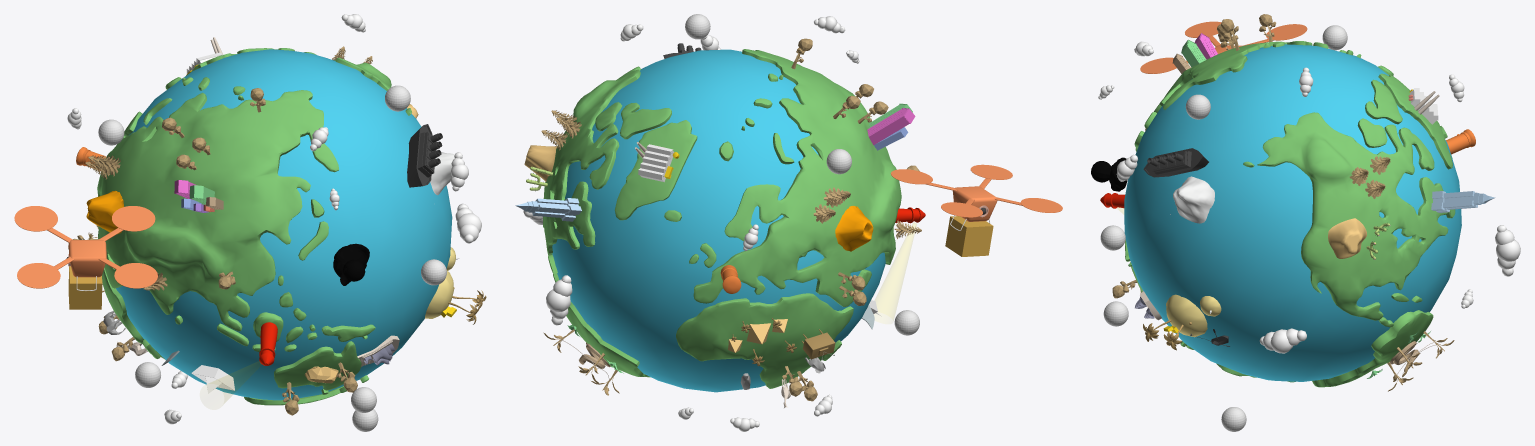
The model's file is globe-comp.gltf.
3 views of the same model, side by side, from view 1: azimuth 30°, elevation 25°; view 2: azimuth 150°, elevation 25°; view 3: azimuth 270°, elevation 25° (orthographic). The views are drawn at different scales.
Parts seen in each view (by area): view 1: world-sphere, world-continents, SHIP, Cube.001, BOX, RUBBER DUCKY, BLADE 0, BLADE 1, VOLCANO, BLADE 3, BLADE 2, CLOUD 1 58 (+13 smaller); view 2: world-sphere, world-continents, BOX, lighthouse-cone, VOLCANO, TALL TOWER, BUILDING, CLOUD 1 42, Cube.001, TOWER PINK, M. VALLEY, TV (+7 smaller); view 3: world-sphere, world-continents, ICEBERG, SHIP, B ISLAND, M. VALLEY, TALL TOWER, CLOUD 1 42, CLOUD 1 58, RUBBER DUCKY, BLADE 0, point-of-interest-5 (+9 smaller).
Part boxes in pixels (left/top/right/bottom): world-sphere: left=116, top=49, right=452, bottom=400; world-continents: left=97, top=48, right=411, bottom=405; SHIP: left=407, top=124, right=442, bottom=187; Cube.001: left=68, top=240, right=106, bottom=277; BOX: left=68, top=266, right=102, bottom=309; RUBBER DUCKY: left=333, top=243, right=369, bottom=285; BLADE 0: left=14, top=206, right=72, bottom=242; BLADE 1: left=98, top=206, right=155, bottom=241; VOLCANO: left=86, top=190, right=123, bottom=234; BLADE 3: left=17, top=256, right=74, bottom=288; BLADE 2: left=98, top=258, right=157, bottom=288; CLOUD 1 58: left=455, top=203, right=481, bottom=243; world-sphere: left=552, top=49, right=885, bottom=392; world-continents: left=543, top=49, right=901, bottom=388; BOX: left=945, top=216, right=993, bottom=256; lighthouse-cone: left=875, top=223, right=916, bottom=319; VOLCANO: left=835, top=206, right=873, bottom=251; TALL TOWER: left=515, top=198, right=581, bottom=221; BUILDING: left=638, top=144, right=674, bottom=182; CLOUD 1 42: left=546, top=275, right=572, bottom=325; Cube.001: left=952, top=186, right=997, bottom=221; TOWER PINK: left=867, top=108, right=915, bottom=145; M. VALLEY: left=524, top=145, right=557, bottom=181; TV: left=803, top=332, right=835, bottom=359; world-sphere: left=1124, top=44, right=1461, bottom=381; world-continents: left=1125, top=41, right=1455, bottom=387; ICEBERG: left=1170, top=176, right=1214, bottom=223; SHIP: left=1143, top=148, right=1208, bottom=177; B ISLAND: left=1166, top=294, right=1207, bottom=337; M. VALLEY: left=1328, top=218, right=1366, bottom=258; TALL TOWER: left=1431, top=191, right=1495, bottom=212; CLOUD 1 42: left=1495, top=225, right=1520, bottom=276; CLOUD 1 58: left=1259, top=328, right=1306, bottom=353; RUBBER DUCKY: left=1091, top=157, right=1127, bottom=191; BLADE 0: left=1243, top=24, right=1307, bottom=45; point-of-interest-5: left=1103, top=301, right=1128, bottom=326.
Size of what is drawn, in the model's own units: 156 by 115 by 121.
